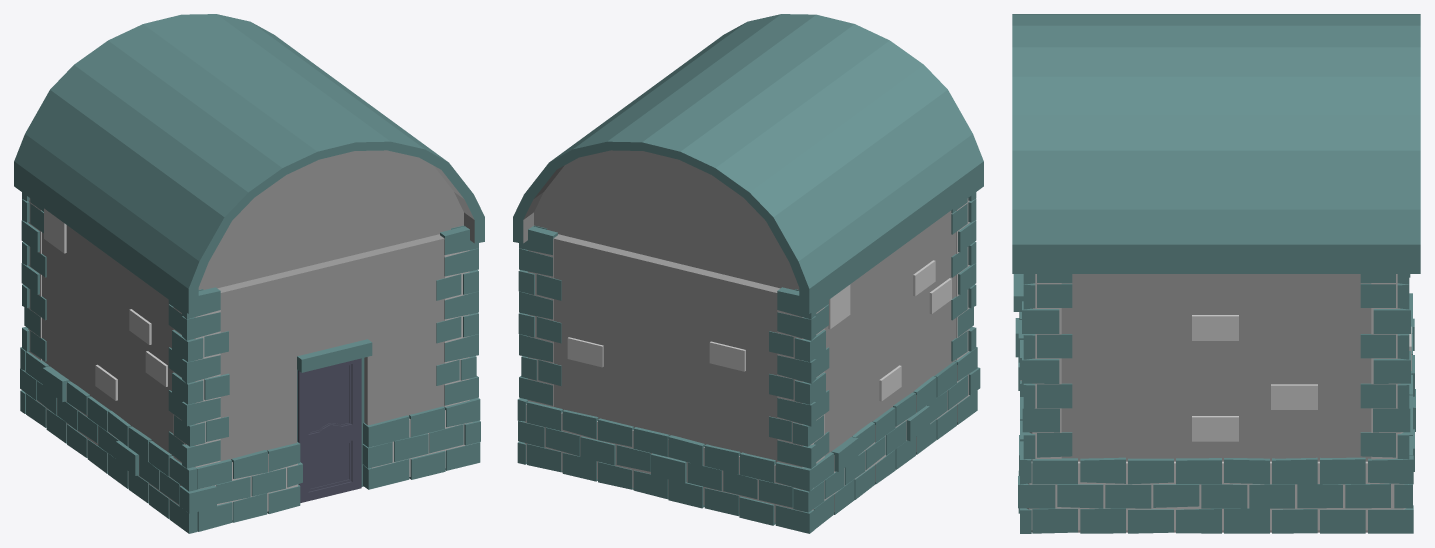
File: quat_1story_roundroof.glb
The picture shows the model from 3 angles, left to right: view 1: azimuth 30°, elevation 25°; view 2: azimuth 150°, elevation 25°; view 3: azimuth 270°, elevation 25°; orthographic projection. The views are drawn at different scales.
Parts seen in each view (by area): view 1: 1Story_RoundRoof_Cube.149; view 2: 1Story_RoundRoof_Cube.149; view 3: 1Story_RoundRoof_Cube.149.
Boxes of the visible parts, left/top/right/bottom form: 1Story_RoundRoof_Cube.149: left=14, top=14, right=484, bottom=533; 1Story_RoundRoof_Cube.149: left=513, top=14, right=983, bottom=533; 1Story_RoundRoof_Cube.149: left=1012, top=14, right=1420, bottom=533.
Size of the model in its own units: 2.09 by 2.38 by 2.13.
Materials: 1 (1 with a texture image).
